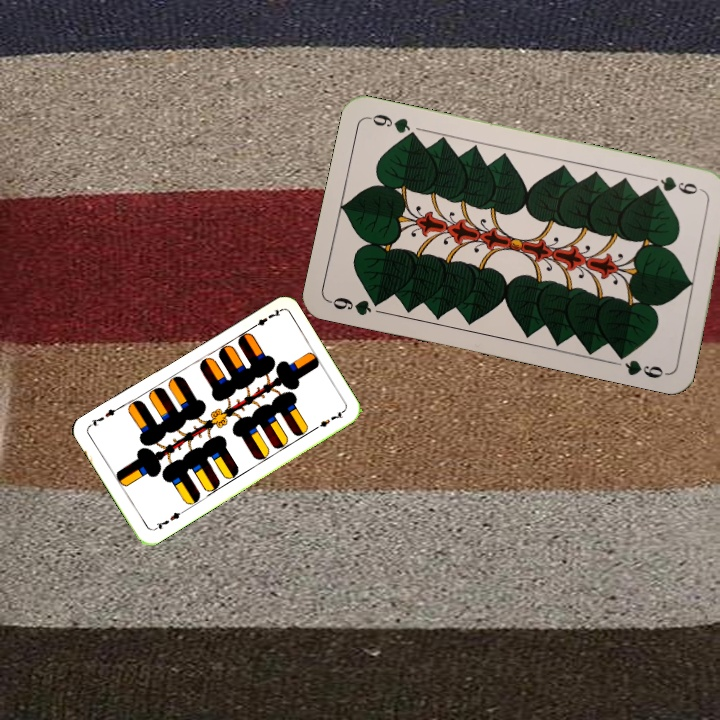E7: (246, 305, 283, 332), (149, 507, 186, 533)
G9: (326, 293, 387, 318), (647, 172, 707, 197)
